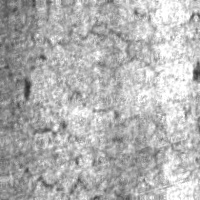crazing: (24, 7, 158, 84), (39, 97, 193, 146), (108, 154, 196, 196)
